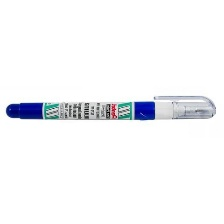correction_fluid: (3, 93, 218, 125)
